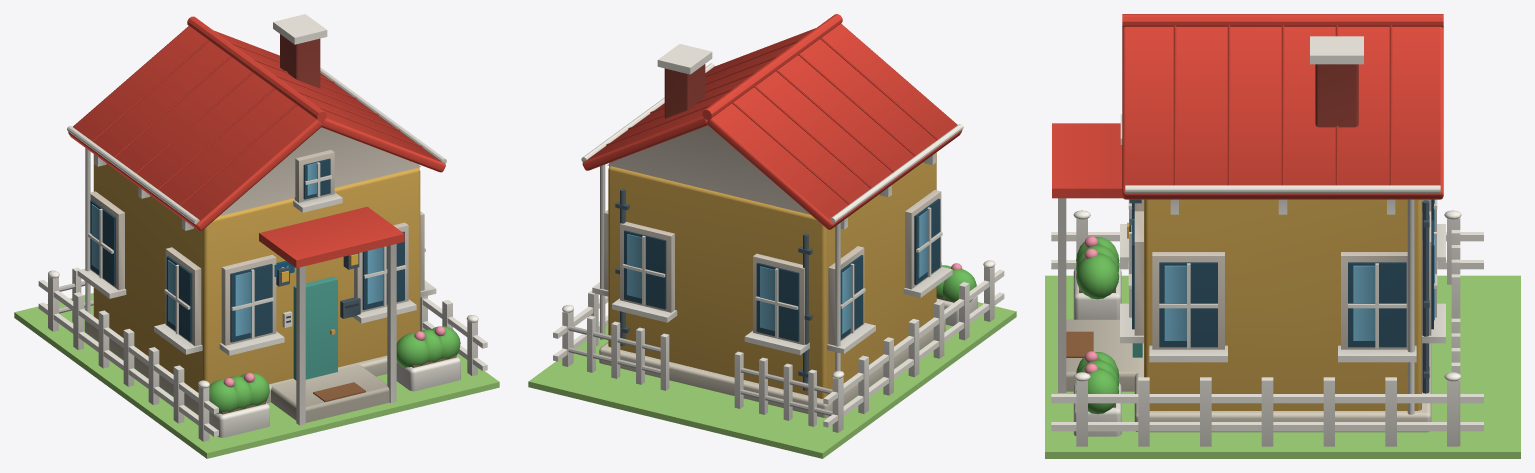
The model's file is house-coral.glb.
3 renders of one model, left to right at view 1: azimuth 30°, elevation 25°; view 2: azimuth 150°, elevation 25°; view 3: azimuth 270°, elevation 25°, orthographic. The views are drawn at different scales.
Visible parts, largest first — view 1: pitched roof, house walls, mullion, gable walls, garden lot, blue glazing, house base, front door, plant, sky reflection, chimney, rainwater pipe (+1 smaller); view 2: house walls, pitched roof, mullion, garden lot, gable walls, blue glazing, house base, sky reflection, chimney, rainwater pipe, plant; view 3: pitched roof, house walls, mullion, garden lot, blue glazing, house base, gable walls, plant, sky reflection, chimney, rainwater pipe, porch mat (+1 smaller).
Part boxes in pixels (x1,y1,x2,y2): pitched roof: (68,16,445,268); house walls: (93,154,420,392); mullion: (38,14,487,441); gable walls: (90,127,424,345); garden lot: (14,293,499,458); blue glazing: (90,158,404,342); house base: (84,315,389,425); front door: (293,276,337,380); plant: (209,326,460,414); sky reflection: (91,163,383,336); chimney: (280,34,320,88); rainwater pipe: (276,253,360,318); house walls: (608,152,936,398); pitched roof: (582,14,962,229); mullion: (553,44,1004,432); garden lot: (528,302,1016,458); gable walls: (603,125,941,345); blue glazing: (624,198,940,341); house base: (599,319,945,417); sky reflection: (627,210,928,334); chimney: (664,64,705,118); rainwater pipe: (615,188,812,390); plant: (936,265,976,301); pitched roof: (1052,14,1443,199); house walls: (1144,199,1421,410); mullion: (1051,36,1483,446); garden lot: (1045,275,1520,458); blue glazing: (1132,199,1433,347); house base: (1066,319,1431,432); gable walls: (1134,199,1431,349); plant: (1076,237,1119,414); sky reflection: (1131,199,1434,340); chimney: (1315,64,1358,127); rainwater pipe: (1129,199,1429,393); porch mat: (1066,331,1093,357).
Size of the model in its own units: 2.7 by 2.6 by 3.08.
